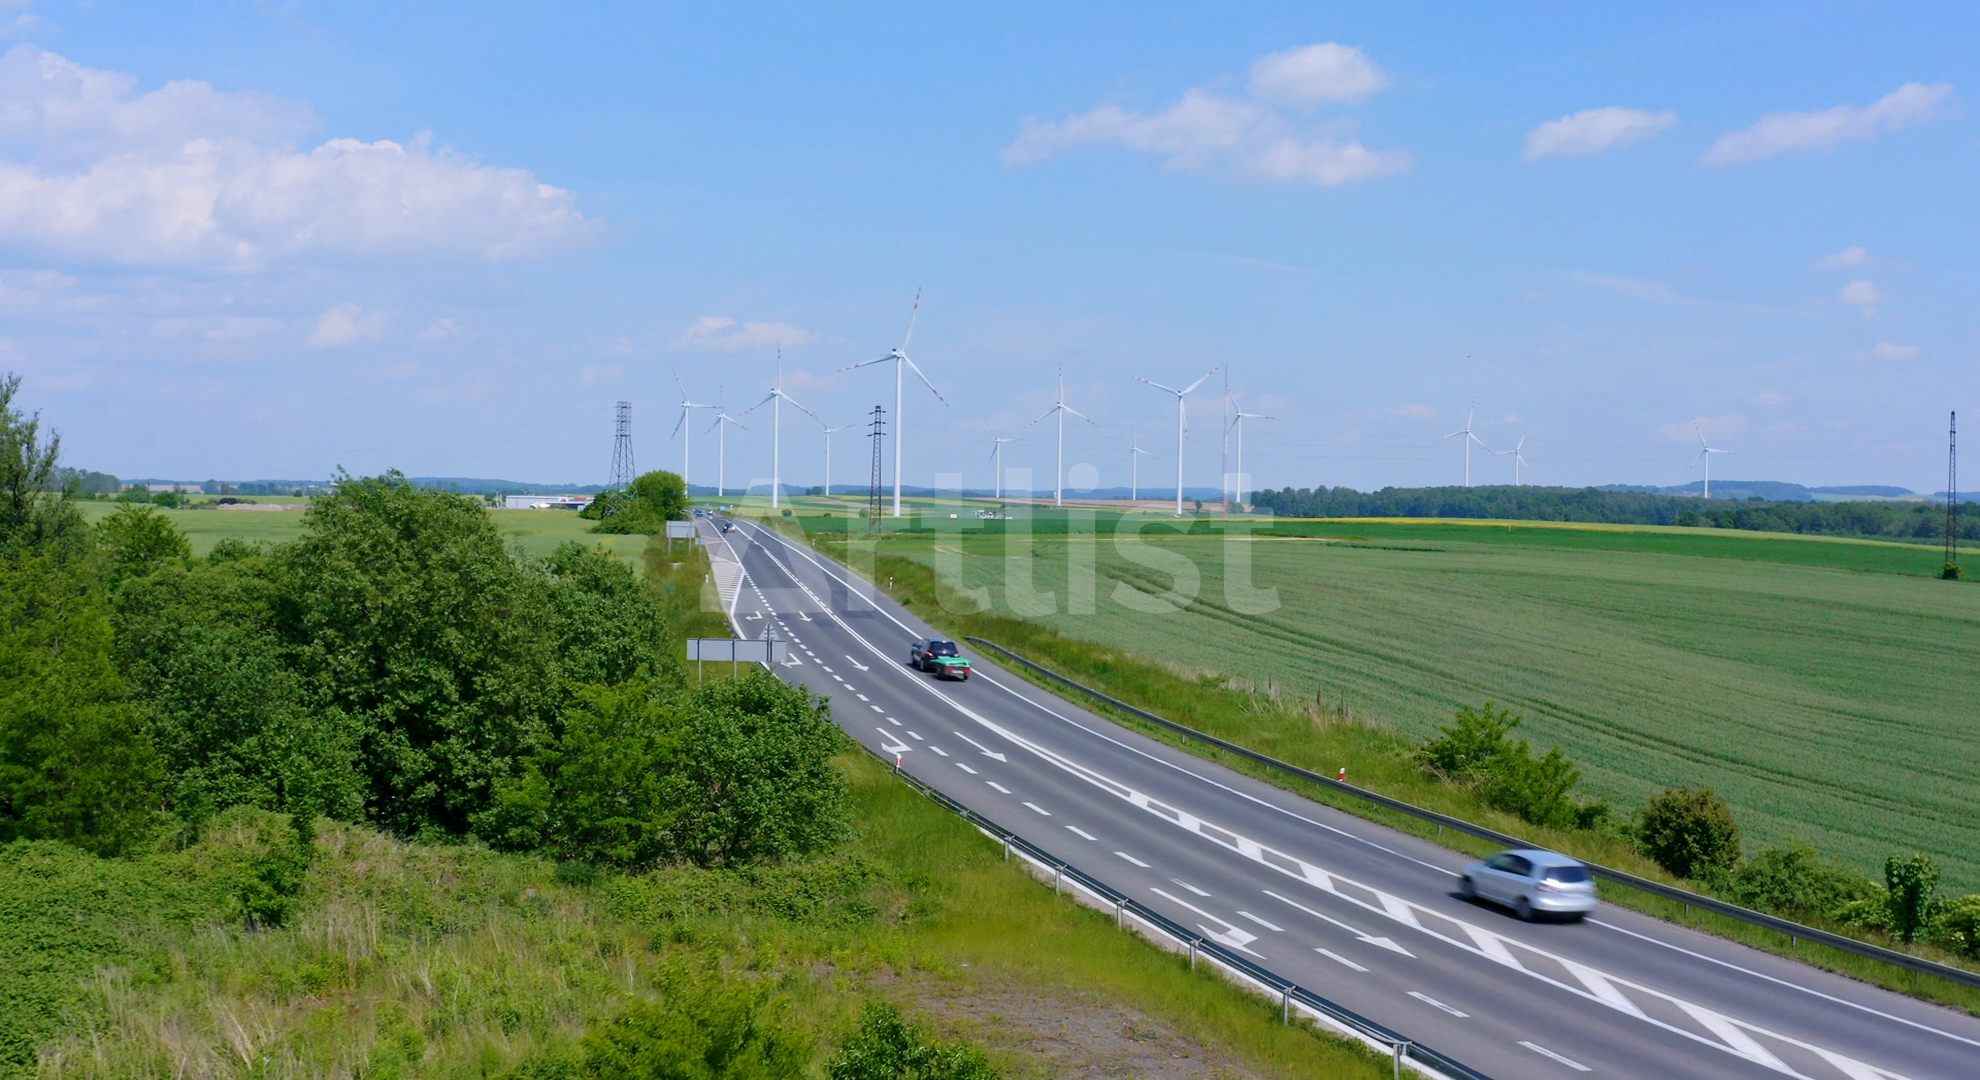car: (1461, 849, 1588, 926), (920, 634, 973, 684), (723, 521, 738, 535)
directionsign: (677, 625, 798, 684), (661, 516, 703, 565)
